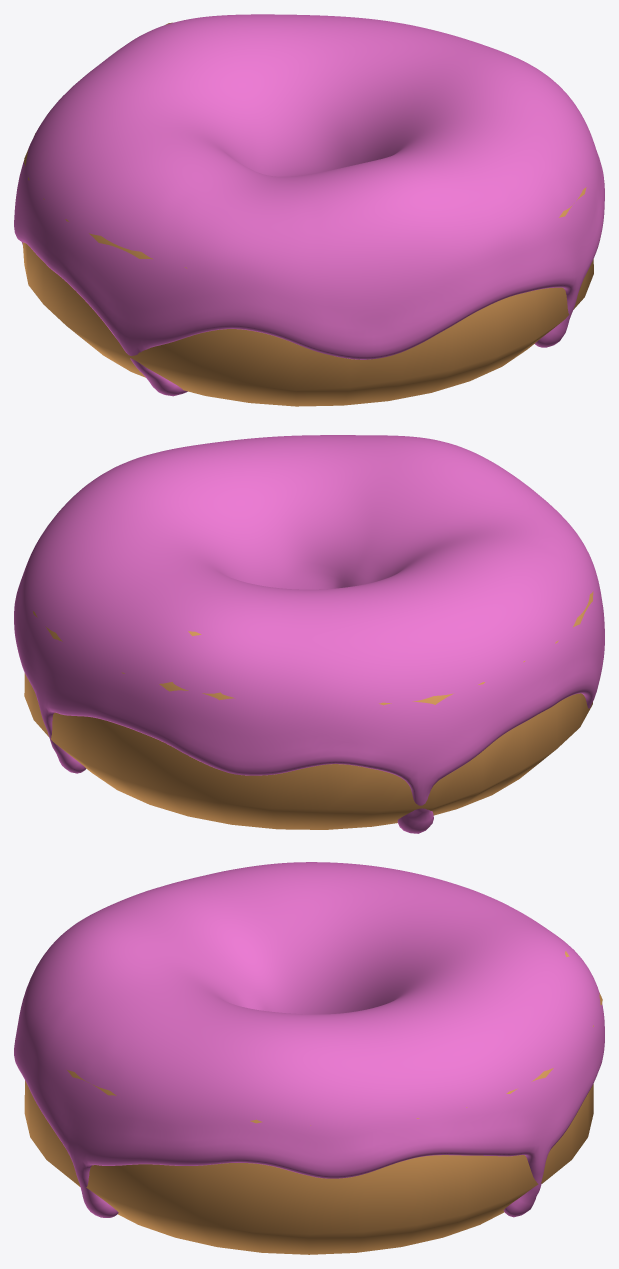
File: donut.glb
3 renders of one model, top to bottom at view 1: azimuth 30°, elevation 25°; view 2: azimuth 150°, elevation 25°; view 3: azimuth 270°, elevation 25°, orthographic.
Parts seen in each view (by area): view 1: Icing, Donut; view 2: Icing, Donut; view 3: Icing, Donut.
Part boxes in pixels (x1,y1,x2,y2): Icing: (14,14,604,396); Donut: (22,22,593,406); Icing: (14,435,604,833); Donut: (24,591,593,829); Icing: (14,862,604,1217); Donut: (24,951,602,1254).
Size of the model in its own units: 1.26 by 0.5299 by 1.26.
